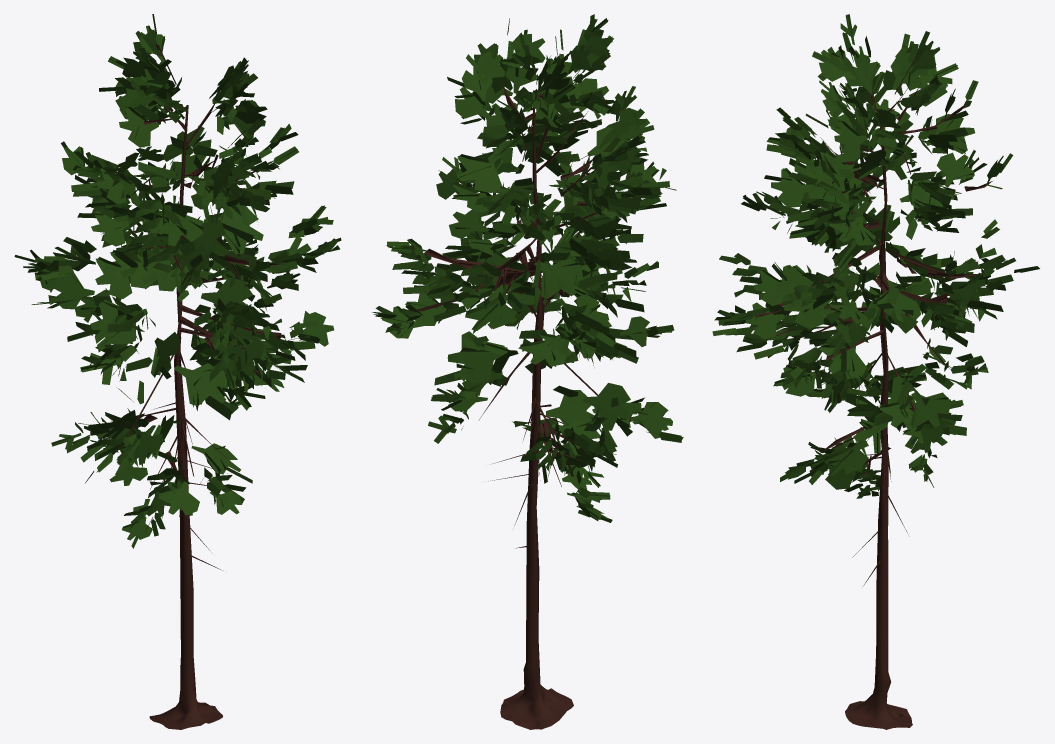
Rendered from fir_b_horizon.obj.
3 renders of one model, left to right at view 1: azimuth 30°, elevation 25°; view 2: azimuth 150°, elevation 25°; view 3: azimuth 270°, elevation 25°, orthographic. The views are drawn at different scales.
Parts seen in each view (by area): view 1: fir_b_horizon; view 2: fir_b_horizon; view 3: fir_b_horizon.
Part boxes in pixels (left/top/right/bottom): fir_b_horizon: left=14, top=14, right=341, bottom=729; fir_b_horizon: left=372, top=14, right=683, bottom=729; fir_b_horizon: left=712, top=14, right=1039, bottom=729.
Size of the model in its own units: 222 by 554 by 240.
